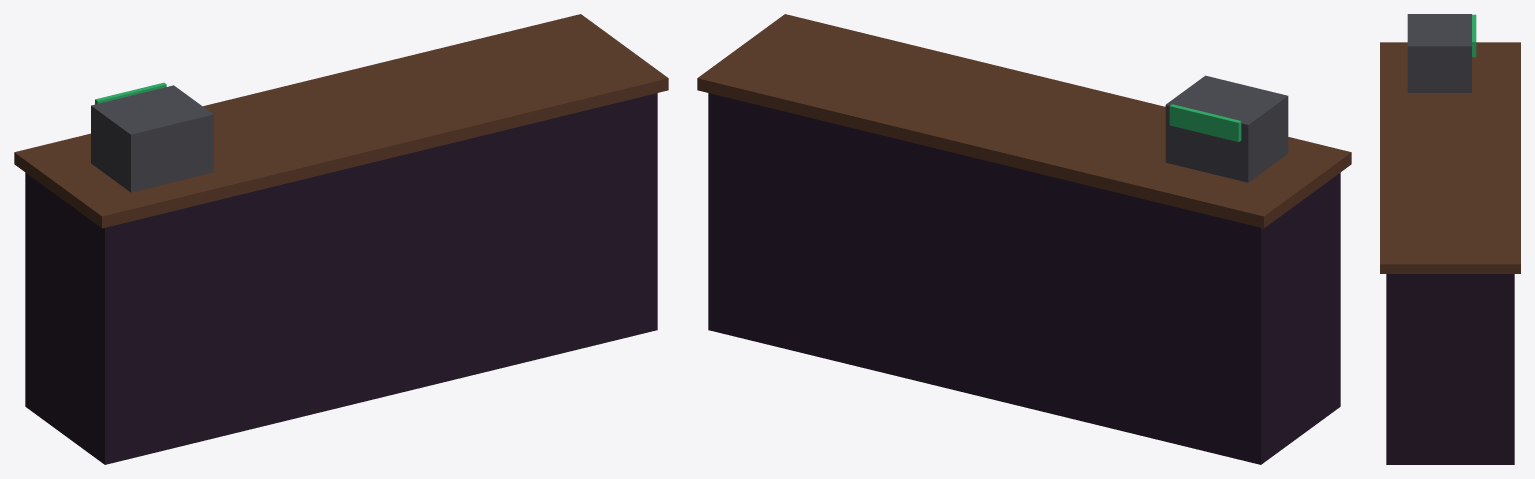
Rendered from structure.glb.
3 renders of one model, left to right at view 1: azimuth 30°, elevation 25°; view 2: azimuth 150°, elevation 25°; view 3: azimuth 270°, elevation 25°, orthographic. The views are drawn at different scales.
Parts seen in each view (by area): view 1: Box2, Box3, Box4; view 2: Box2, Box3, Box4, Box5; view 3: Box3, Box2, Box4, Box5.
Boxes of the visible parts, x1,y1,x2,y2 form: Box2: [25, 93, 657, 464]; Box3: [14, 14, 668, 228]; Box4: [91, 85, 213, 192]; Box2: [708, 93, 1340, 464]; Box3: [697, 14, 1351, 228]; Box4: [1165, 75, 1288, 182]; Box5: [1169, 104, 1241, 142]; Box3: [1380, 42, 1520, 273]; Box2: [1386, 274, 1514, 464]; Box4: [1407, 14, 1471, 92]; Box5: [1472, 14, 1476, 57].
Size of what is drawn, in the model's own units: 2.46 by 1.3 by 0.66.
